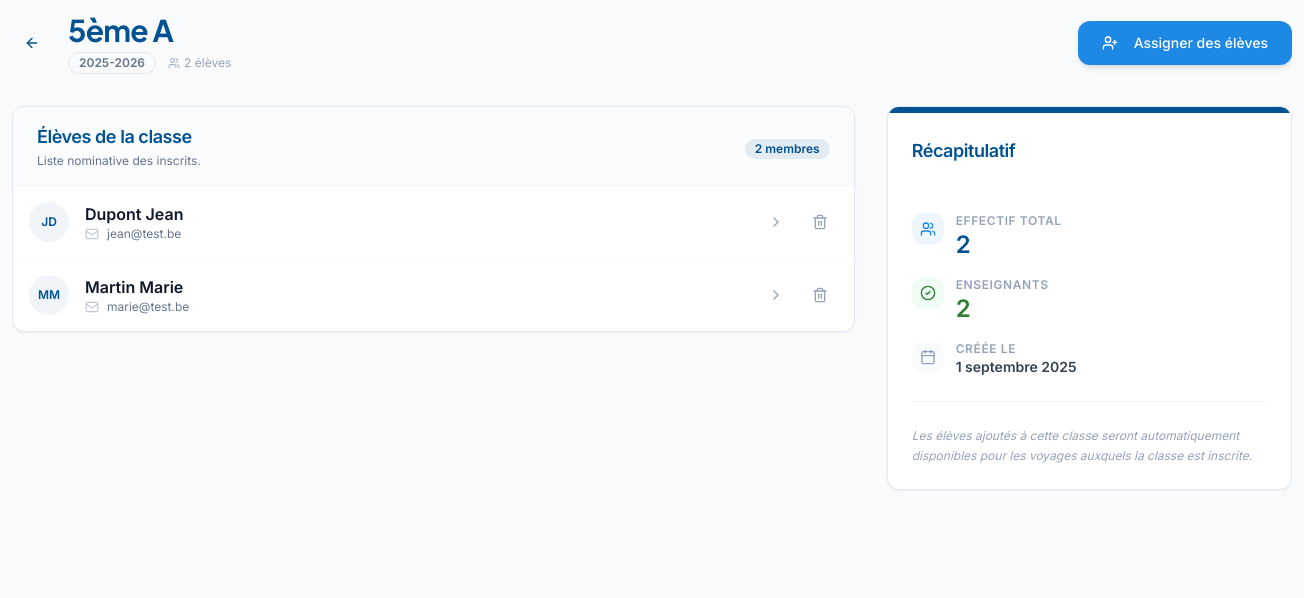
Test case: ClassDetailScreen › opens assigning panel when "Assigner des élèves" clicked
Expected: the heading "5ème A" is shown, [68,11,173,49]
Step 1. Click the button "Assigner des élèves" → {"x": 1185, "y": 43}, box [1078,21,1292,65]
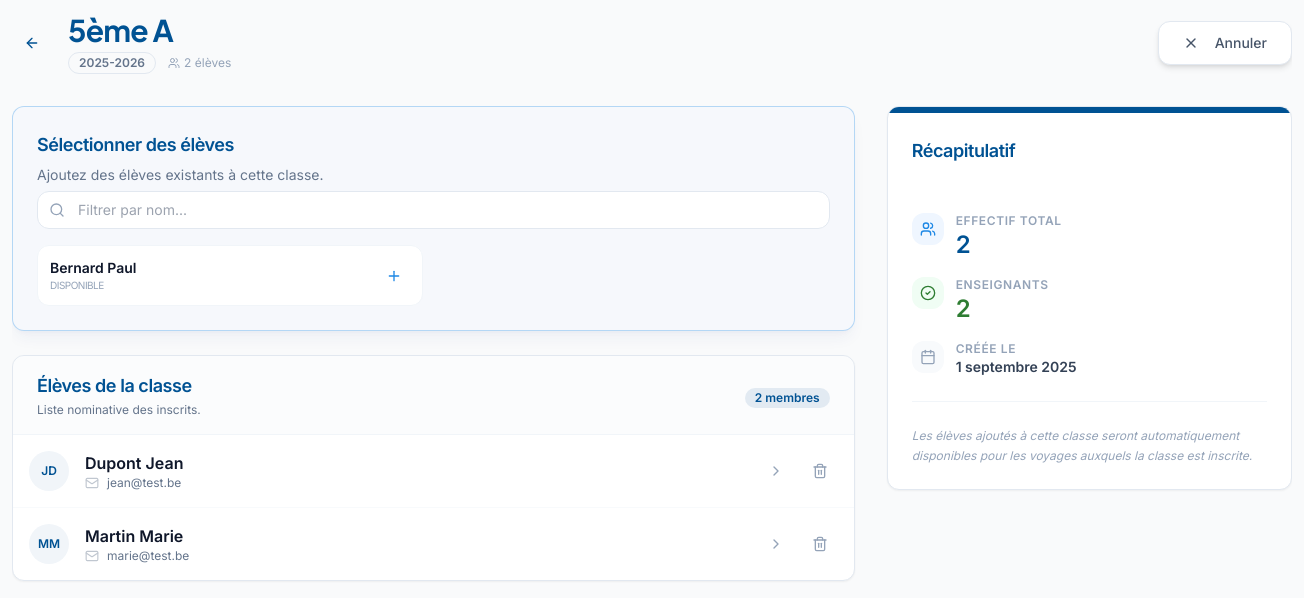
Now the text "Sélectionner des élèves" is shown, box [37,134,234,155]
